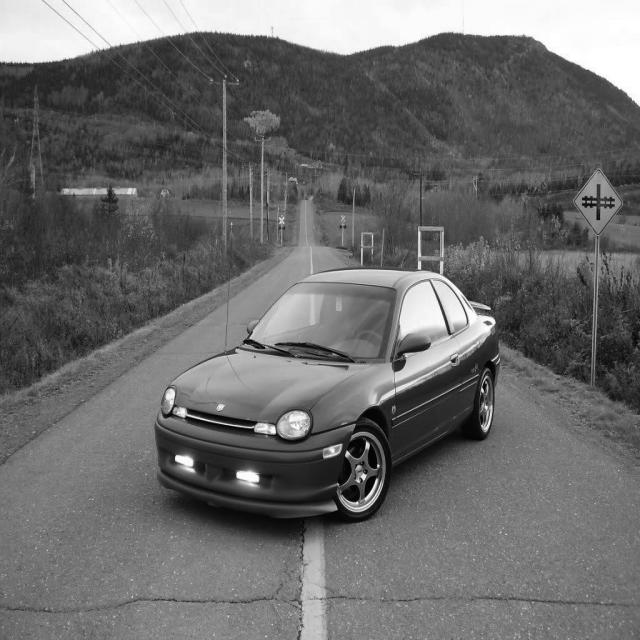car: (154, 265, 501, 522)
